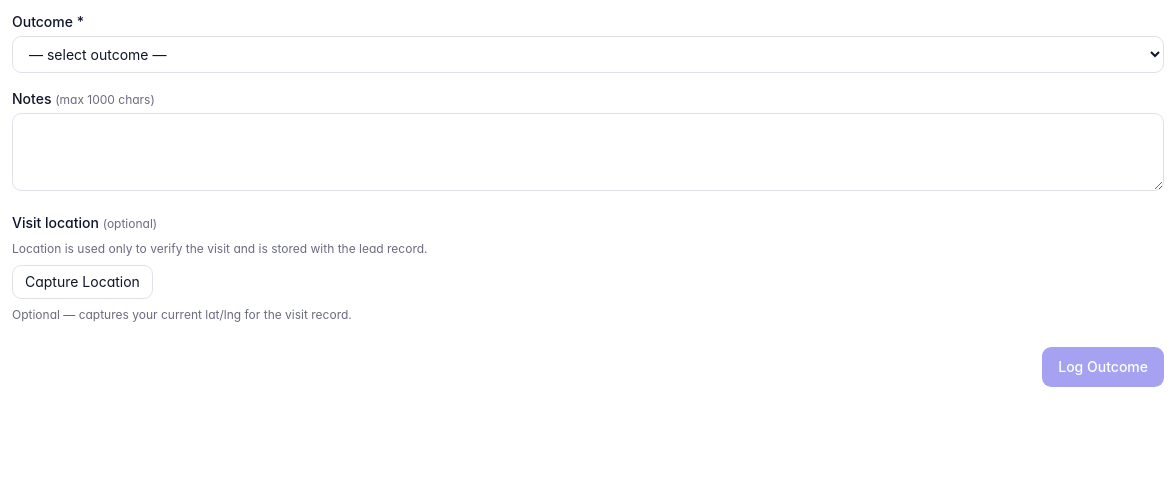
Scenario: DispositionForm › UI-02: next_action_at field appears when rescheduled is selected
Expected: the field labelled "schedule follow-up" is not shown
# Select 'rescheduled'
Select "Rescheduled" in the dropdown. click: point(588, 54)
box: [12,36,1164,73]
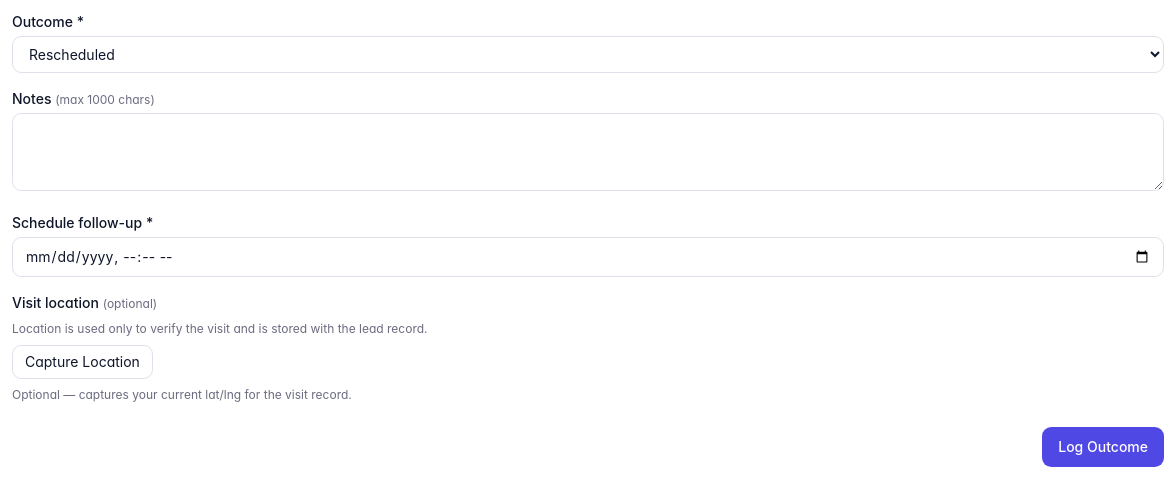
Expected: the field labelled "Schedule follow-up *" is shown, [12,237,1164,277]
